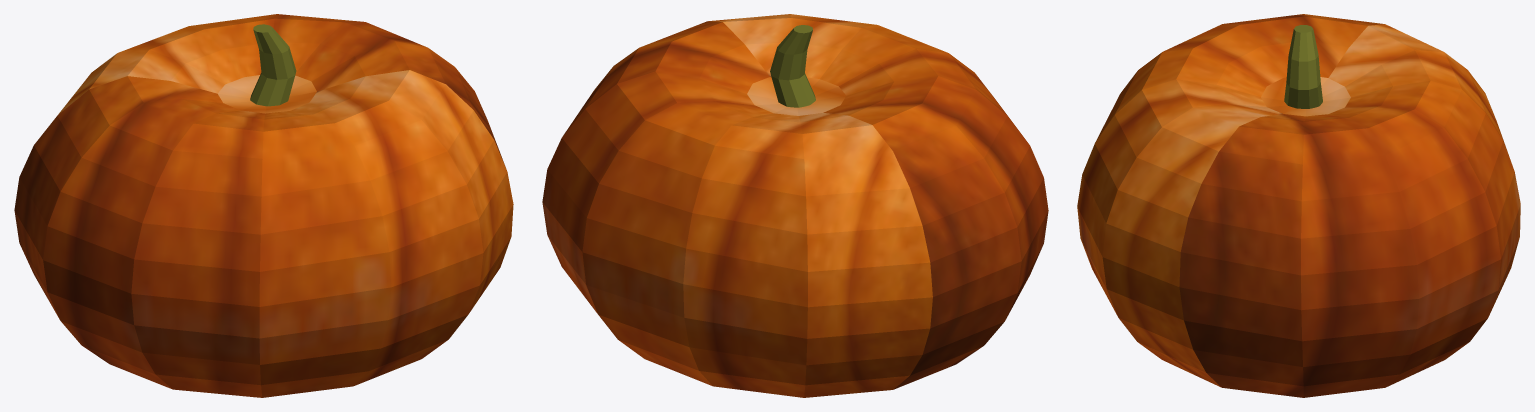
File: Object_Pumkim.fbx
3 views of the same model, side by side, from view 1: azimuth 30°, elevation 25°; view 2: azimuth 150°, elevation 25°; view 3: azimuth 270°, elevation 25° (orthographic). The views are drawn at different scales.
Parts seen in each view (by area): view 1: punmkim, pumkim_base; view 2: punmkim, pumkim_base; view 3: punmkim, pumkim_base.
Part boxes in pixels (x1=…): punmkim: x1=14, y1=14, x2=513, y2=397; pumkim_base: x1=250, y1=24, x2=296, y2=106; punmkim: x1=542, y1=14, x2=1048, y2=397; pumkim_base: x1=770, y1=25, x2=815, y2=107; punmkim: x1=1077, y1=14, x2=1520, y2=397; pumkim_base: x1=1284, y1=25, x2=1322, y2=108.
Size of the model in its own units: 27.72 by 18.52 by 24.46.
